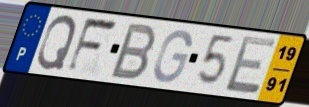5: (194, 34, 237, 90)
B: (107, 21, 159, 82)
E: (223, 33, 279, 96)
F: (63, 16, 121, 76)
G: (151, 28, 193, 84)
Q: (35, 13, 79, 71)
